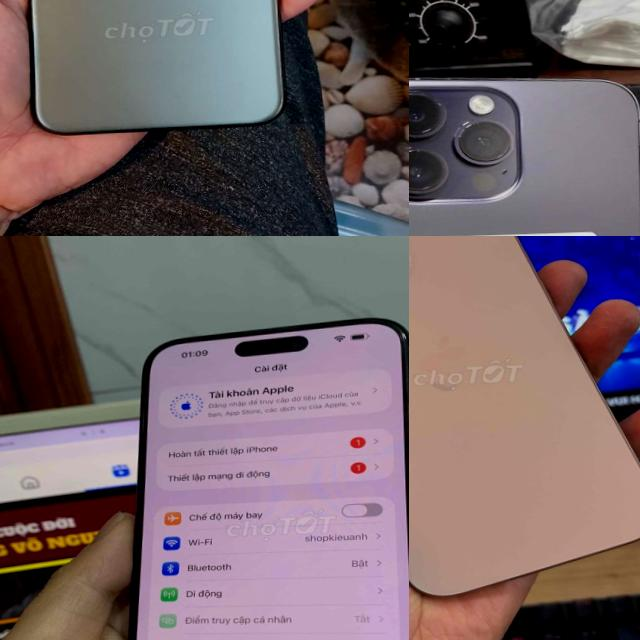gen_11: (0, 0, 301, 140)
gen_14: (409, 65, 640, 236)
gen_15: (106, 303, 409, 640)
gen_16: (409, 236, 640, 595)
